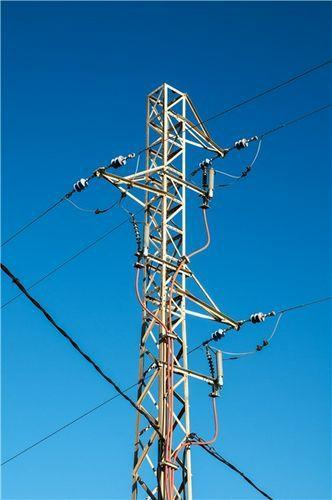power_tower: (71, 82, 283, 500)
